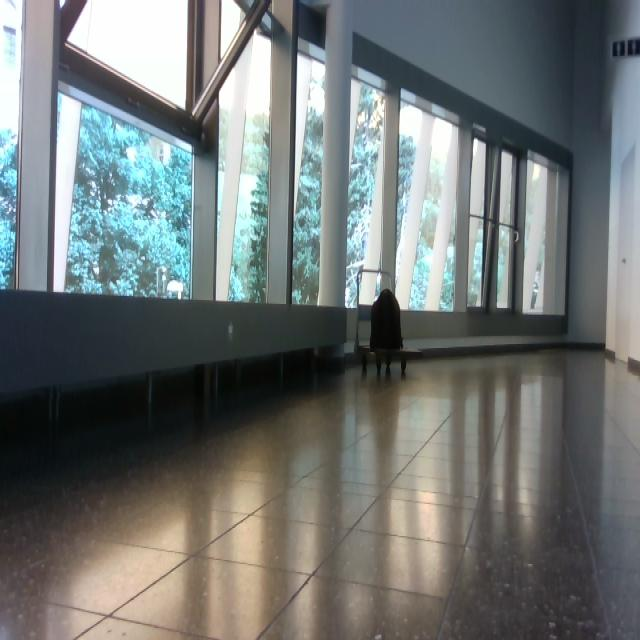door: (615, 142, 640, 364)
light bulb: (309, 84, 326, 117), (126, 147, 137, 163)
person: (370, 289, 407, 377)
pillar: (317, 1, 354, 308)
staircase: (354, 268, 423, 378)
tiled floor: (2, 347, 639, 639)
window: (52, 84, 195, 300), (216, 21, 272, 302), (395, 89, 460, 313), (521, 149, 569, 317)
